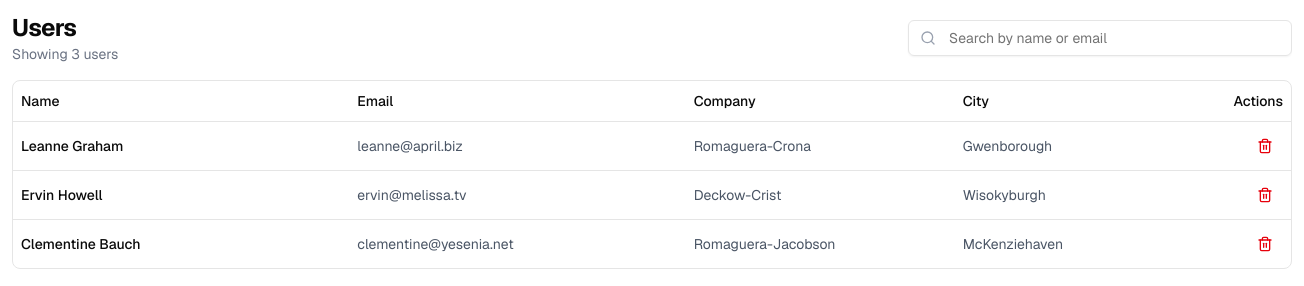
UserTable Integration Tests › Search Functionality › should filter users by email
expect the text "Ervin Howell" is shown: met, box [13,170,349,219]
Type "melissa.tv" into the field with placeholder "Search by name or email" at (1100, 38), box [908,20,1292,56]
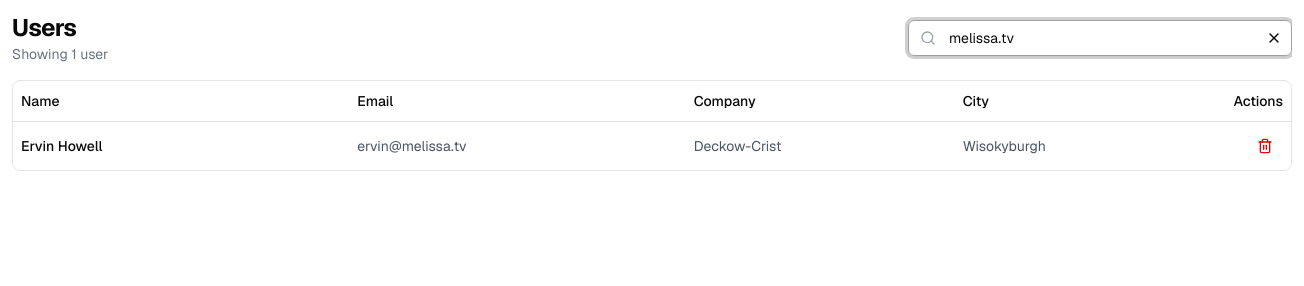
expect the text "Ervin Howell" is shown: met, box [13,121,349,170]
expect the text "Leanne Graham" is gone: met
